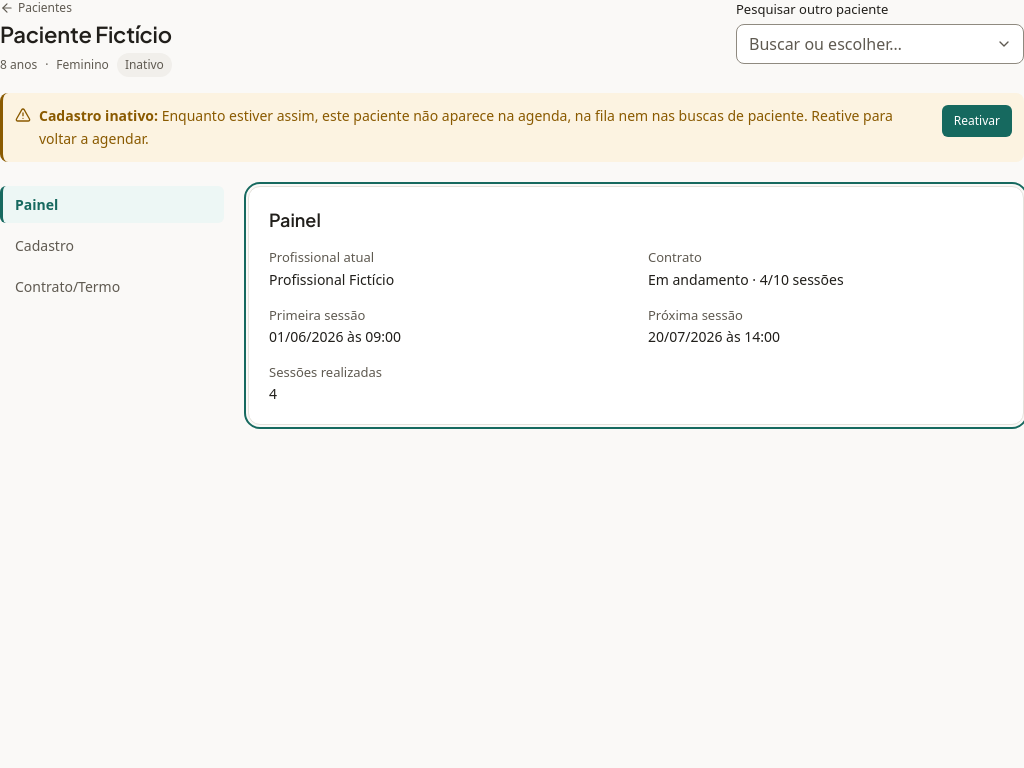
Test: Ficha do paciente — cadastro inativo › deve dizer a recusa do servidor e continuar mostrando o cadastro como inativo
The width and height of the screenshot is (1024, 768).
Click the button "Reativar".
click(977, 121)  # box [942,105,1012,137]
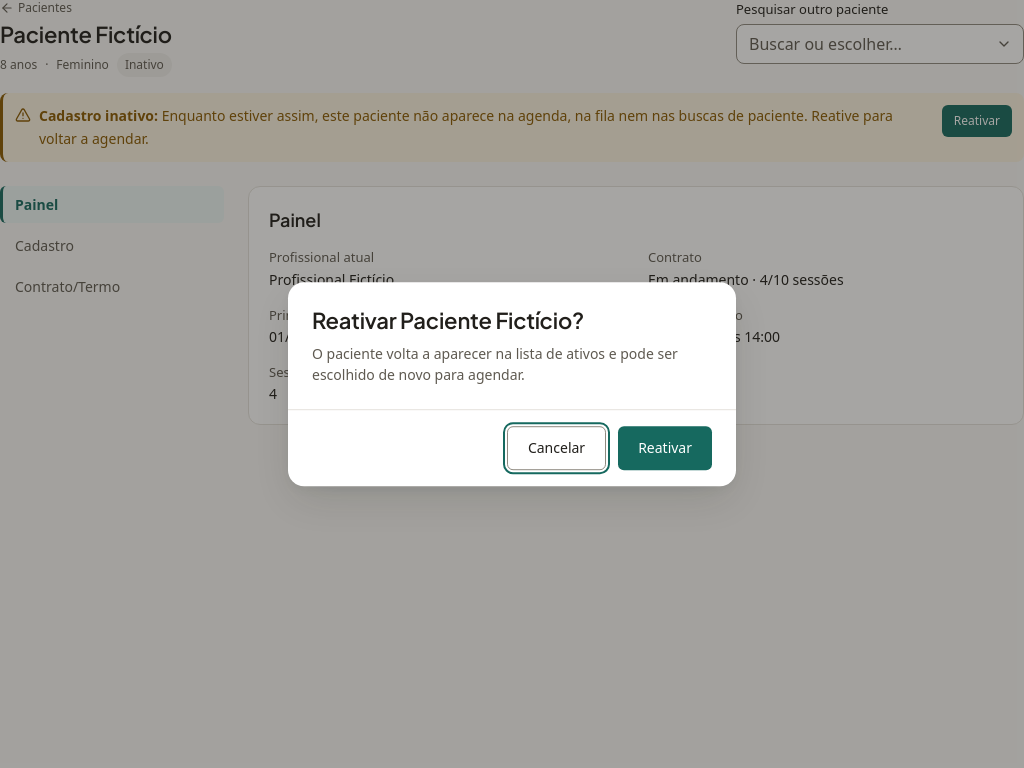
Click the button "Reativar".
click(665, 448)  # box [618,426,712,470]
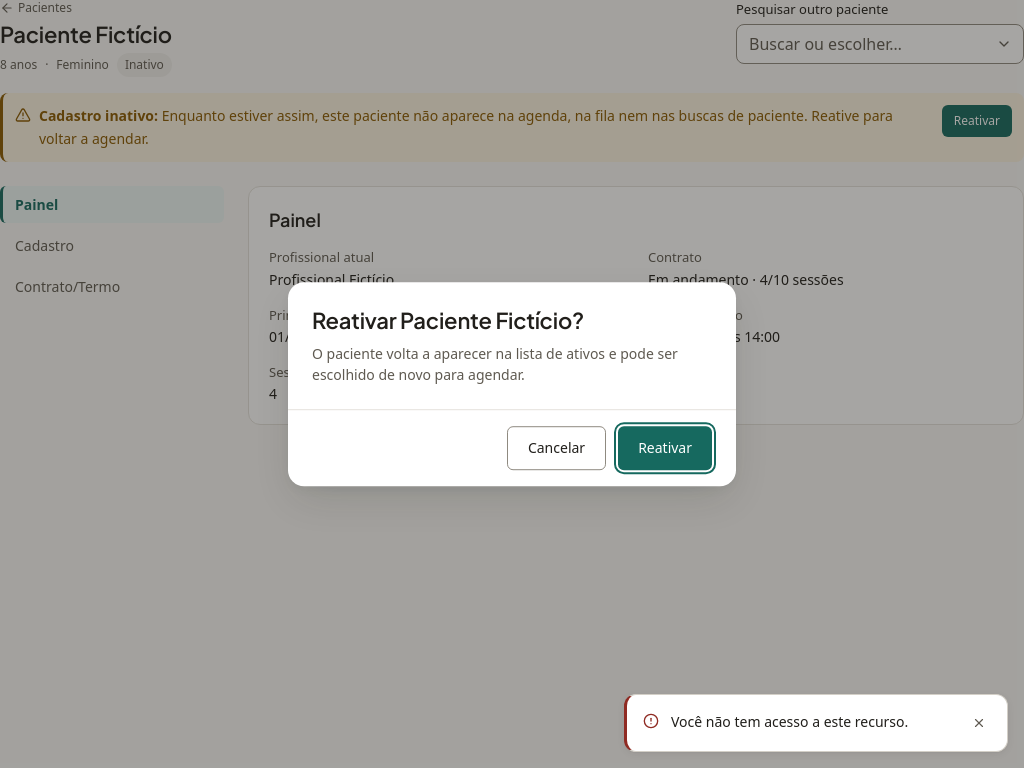
Expected: the text "Cadastro inativo:" is shown, [39,106,162,125]
Now the text "Você não tem acesso a este recurso." is shown, box [671,712,908,731]
